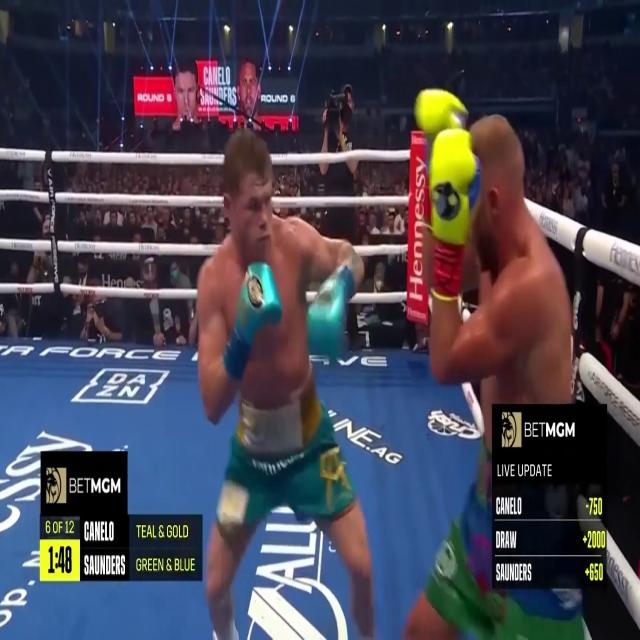boxer_1: (471, 116, 572, 401)
boxer_2: (217, 130, 309, 403)
gloves_1: (417, 89, 480, 303)
gloves_2: (223, 262, 282, 380), (307, 266, 355, 364)
